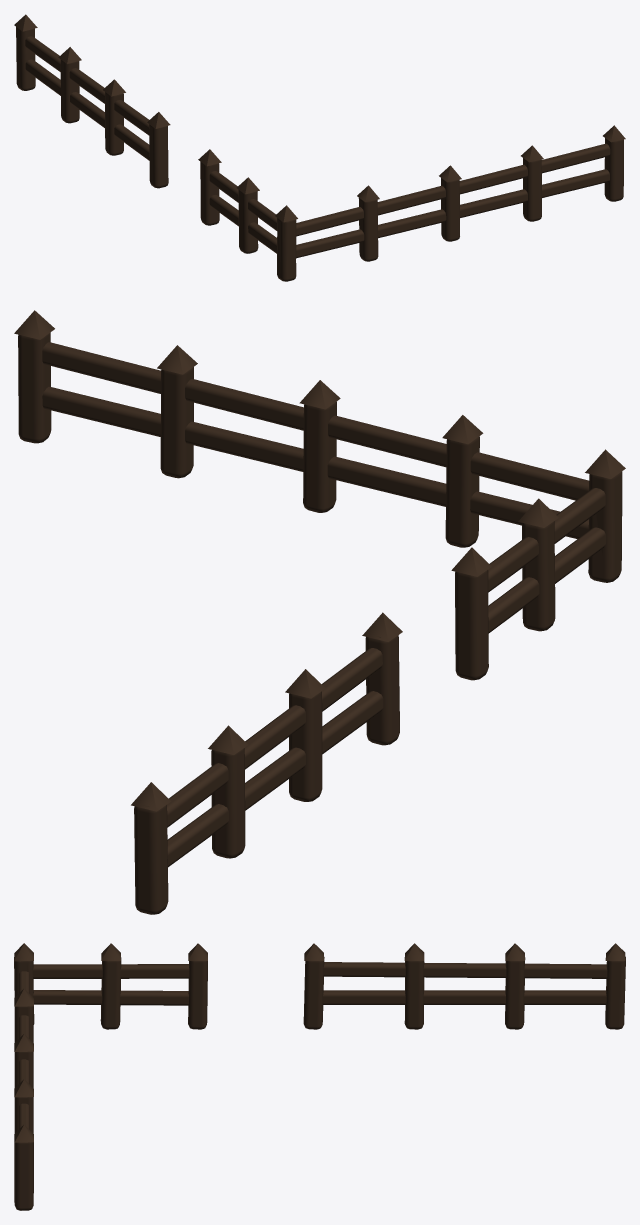
The model's file is painted-paddock-fence.glb.
3 renders of one model, top to bottom at view 1: azimuth 30°, elevation 25°; view 2: azimuth 150°, elevation 25°; view 3: azimuth 270°, elevation 25°, orthographic. The views are drawn at different scales.
Parts seen in each view (by area): view 1: painted-paddock-fence-outline; view 2: painted-paddock-fence-outline; view 3: painted-paddock-fence-outline.
Boxes of the visible parts, bbox=[...] form: painted-paddock-fence-outline: bbox=[14, 14, 625, 281]; painted-paddock-fence-outline: bbox=[14, 310, 625, 914]; painted-paddock-fence-outline: bbox=[14, 943, 625, 1210].
Size of the model in its own units: 3.87 by 0.8047 by 5.28.
